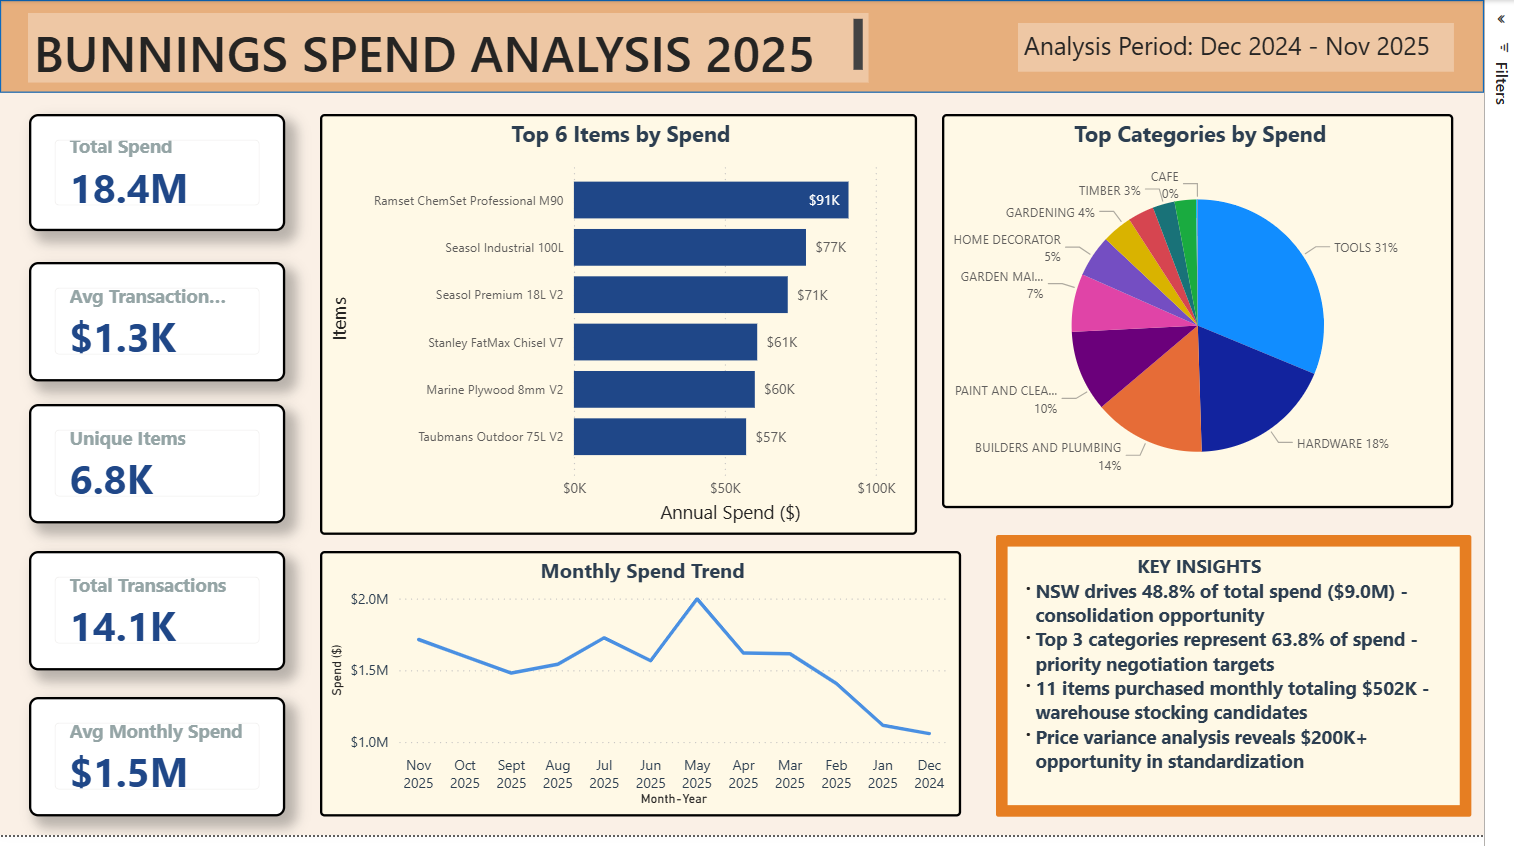

This screenshot's page, from the dashboard's own definition file:
{"tool":"powerbi","page":{"name":"Executive Overview","canvas":[1280,720],"ordinal":0},"visuals":[{"type":"shape","box":[0,0,1280,80],"z":0},{"type":"textbox","box":[24.5,11.4,724.9,60.4],"z":1000},{"type":"textbox","box":[878.4,19.6,375.5,42.4],"z":2000},{"type":"cardVisual","fields":{"Data":["_Measures.Total Spend"]},"box":[25,98.8,221.2,101.2],"z":3000},{"type":"cardVisual","fields":{"Data":["_Measures.Total Transactions"]},"box":[25,475,221.2,102.5],"z":4000},{"type":"cardVisual","fields":{"Data":["_Measures.Unique Items"]},"box":[25,348.8,221.2,102.5],"z":5000},{"type":"cardVisual","fields":{"Data":["_Measures.Avg Transaction Value"]},"box":[25,226.2,221.2,102.5],"z":6000},{"type":"lineChart","title":"Monthly Spend Trend","fields":{"Category":["Dim_Date.Month-Year"],"Y":["_Measures.Total Spend"]},"box":[276.2,475,552.5,228.8],"z":7000},{"type":"pieChart","title":"Top Categories by Spend","fields":{"Category":["Fact_Purchases.Category"],"Y":["_Measures.Total Spend"]},"box":[812.5,98.8,441.2,340],"z":8000},{"type":"clusteredBarChart","title":"Top 6 Items by Spend","fields":{"Y":["_Measures.Total Spend"],"Category":["Item_Mapping.New Display Name"]},"box":[276.2,98.8,515,362.5],"z":9000},{"type":"textbox","box":[858.8,461.2,410,242.5],"z":10000},{"type":"cardVisual","fields":{"Data":["_Measures.Avg Monthly Spend"]},"box":[25,601.2,221.2,102.5],"z":11000}]}

Visuals, with their boxes in screenshot pixels (x1, y1, x2, y2), scaled from the page's 1280x720 canvas onto the 1514x846 screenshot:
shape: box=[0, 0, 1513, 94]
textbox: box=[29, 13, 886, 84]
textbox: box=[1039, 23, 1483, 73]
cardVisual - _Measures.Total Spend: box=[30, 116, 291, 235]
cardVisual - _Measures.Total Transactions: box=[30, 558, 291, 679]
cardVisual - _Measures.Unique Items: box=[30, 410, 291, 530]
cardVisual - _Measures.Avg Transaction Value: box=[30, 266, 291, 386]
"Monthly Spend Trend" lineChart: box=[327, 558, 980, 827]
"Top Categories by Spend" pieChart: box=[961, 116, 1483, 516]
"Top 6 Items by Spend" clusteredBarChart: box=[327, 116, 936, 542]
textbox: box=[1016, 542, 1501, 827]
cardVisual - _Measures.Avg Monthly Spend: box=[30, 706, 291, 827]
